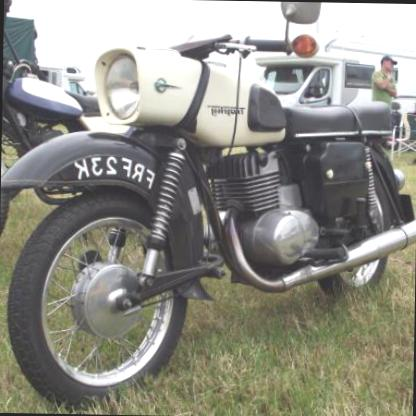motorcycle: (0, 0, 415, 415), (0, 0, 139, 250)
